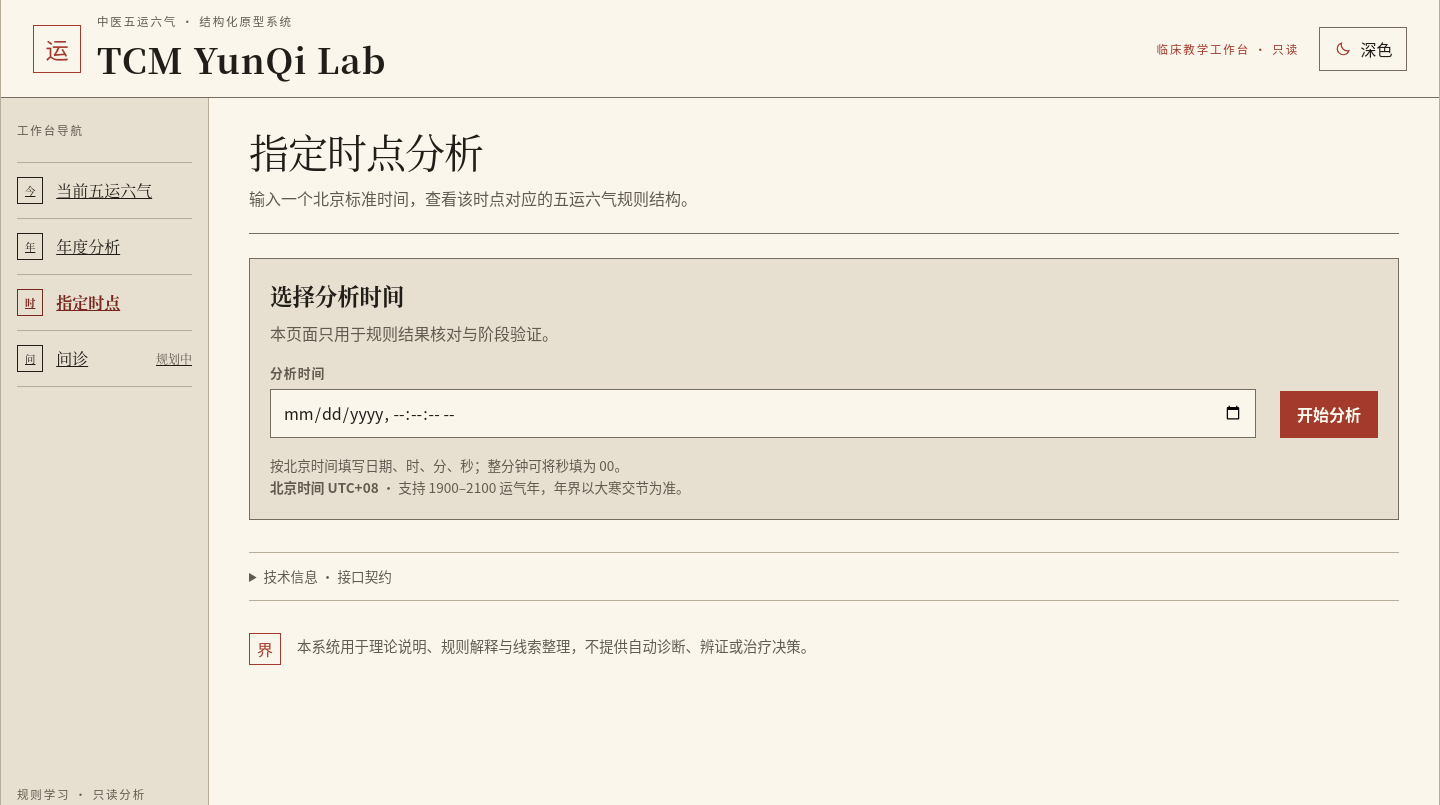
Test: AppRoutes › hides the result when edited and clears dirty feedback after an empty submit
In the field labelled "分析时间": coordinates (763, 413) left=270, top=389, right=1256, bottom=438, type "2026-05-20T13:30"
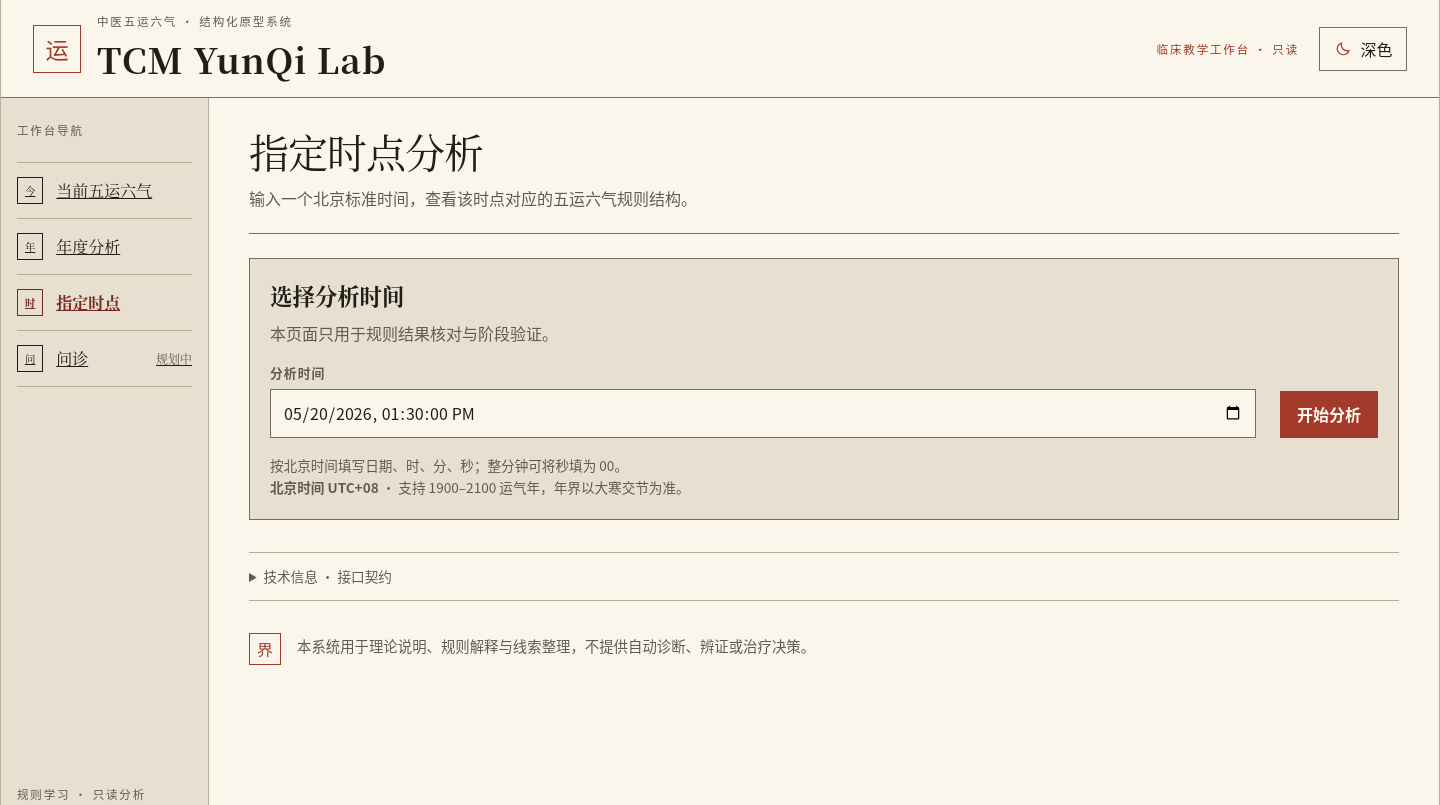
Click the button "开始分析": coordinates (1329, 414) left=1280, top=391, right=1378, bottom=438
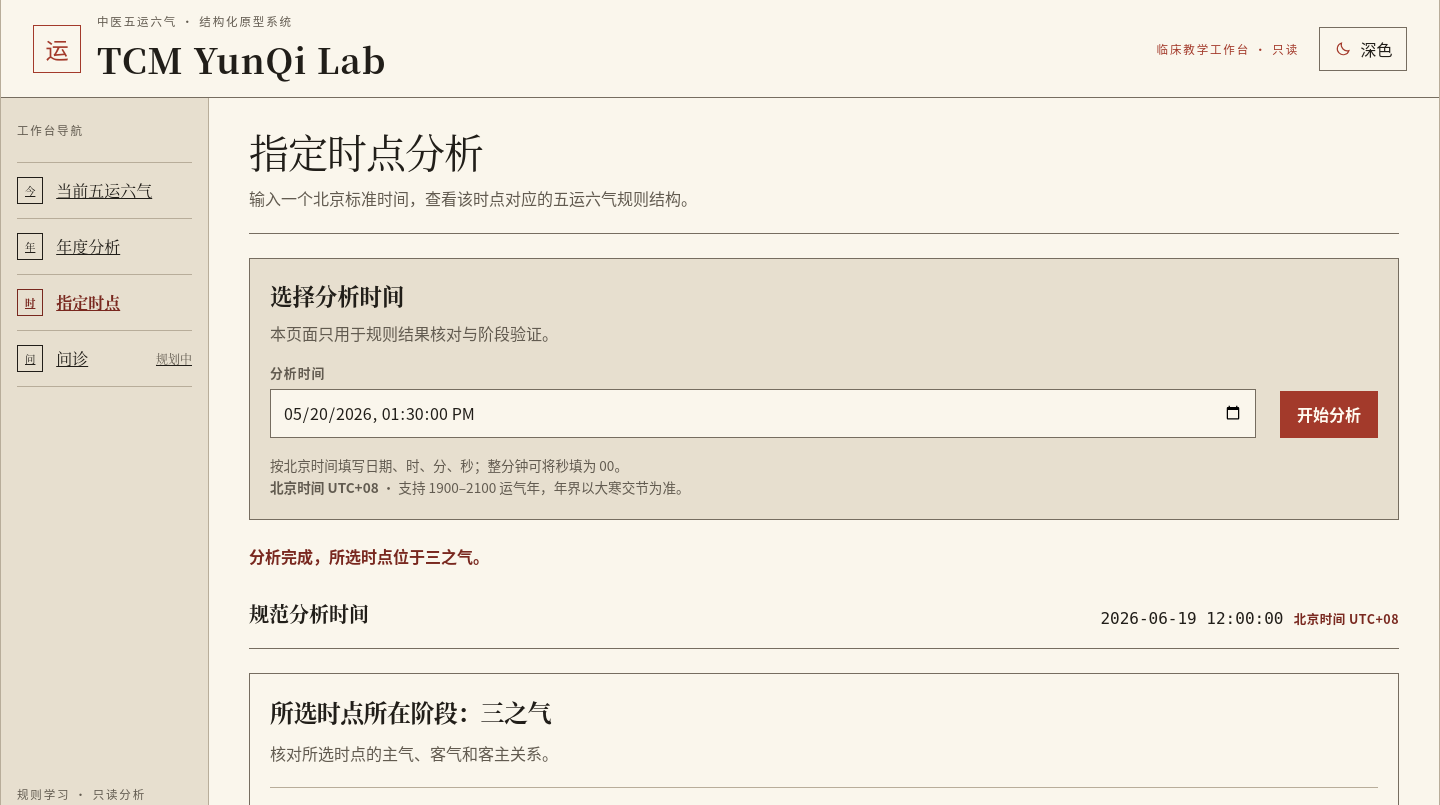
Replace the text in the field labelled "分析时间" with "2026-05-21T13:30": coordinates (763, 413) left=270, top=389, right=1256, bottom=438
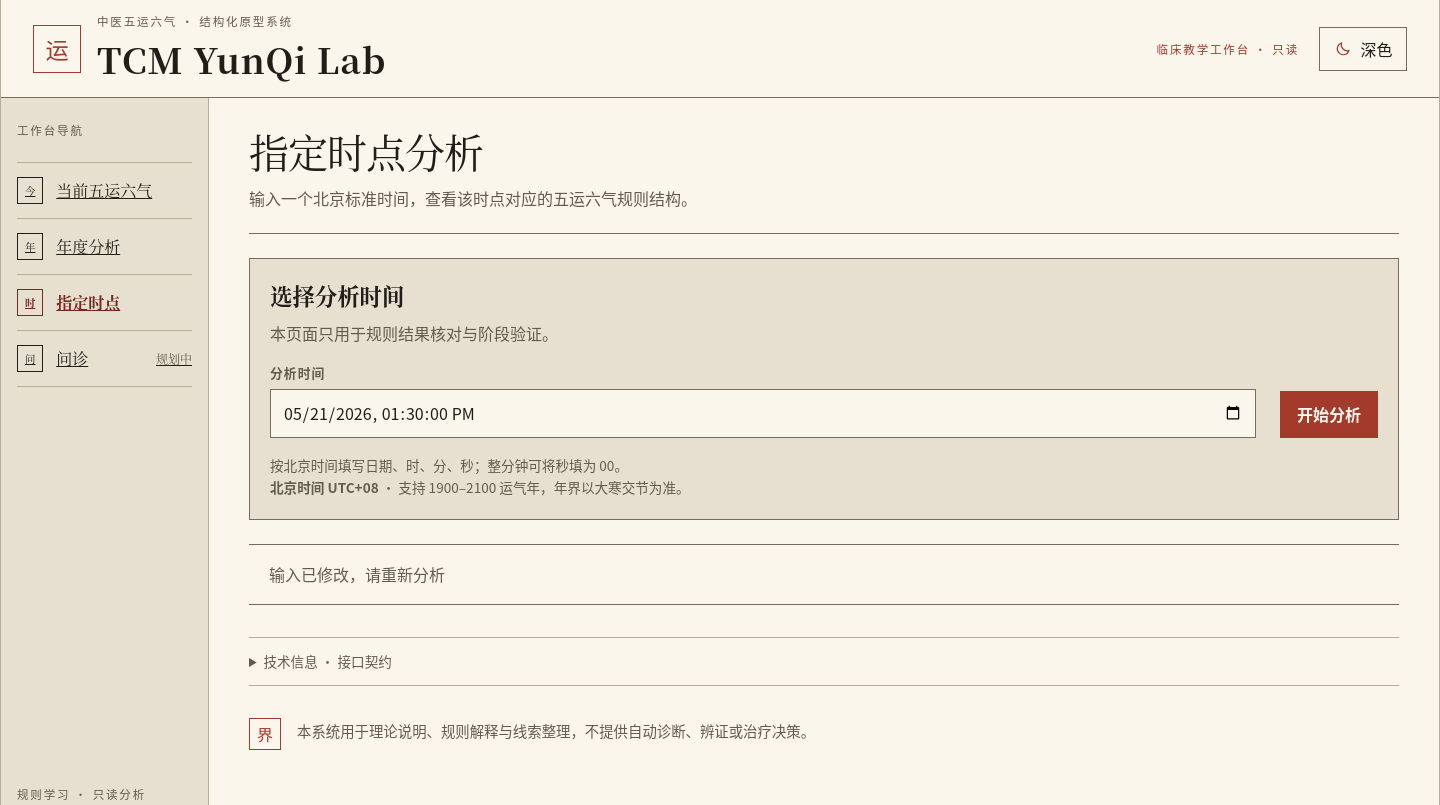
Expected: the text "输入已修改，请重新分析" is shown, left=249, top=544, right=1399, bottom=605
Clear the field labelled "分析时间": coordinates (763, 413) left=270, top=389, right=1256, bottom=438
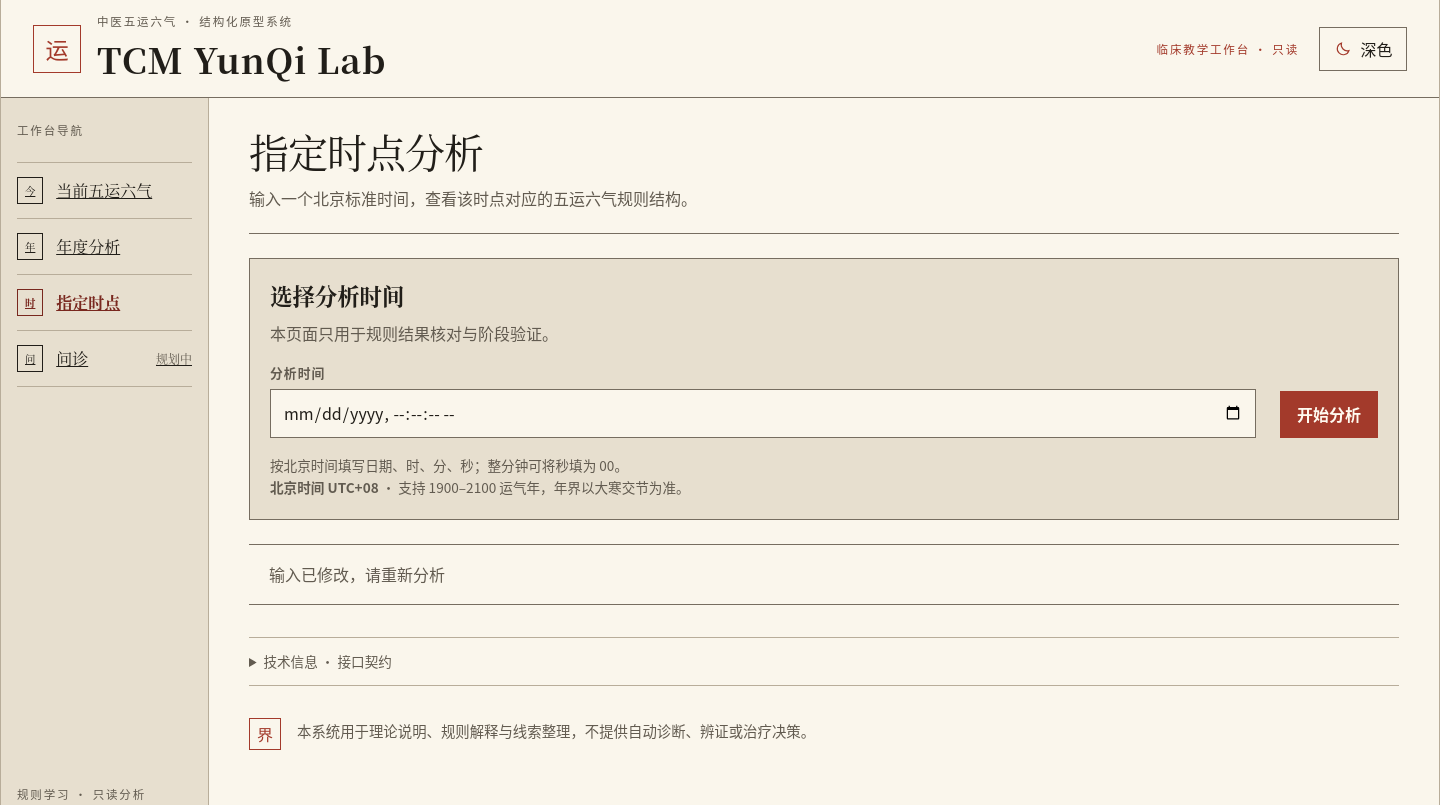
Click the button "开始分析": coordinates (1329, 414) left=1280, top=391, right=1378, bottom=438
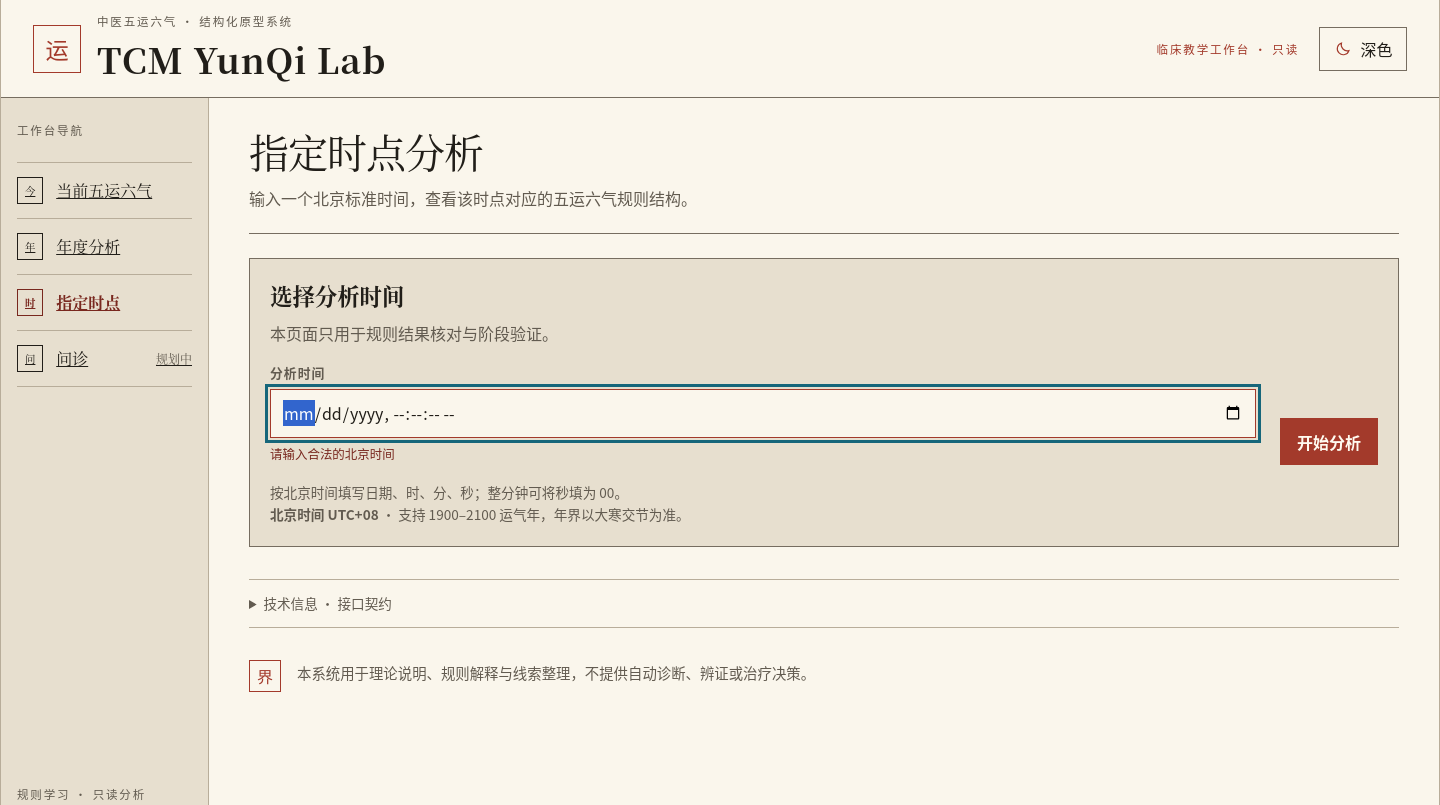
Expected: the message reads "请输入合法的北京时间", left=270, top=445, right=395, bottom=463
Expected: the text "输入已修改，请重新分析" is gone
